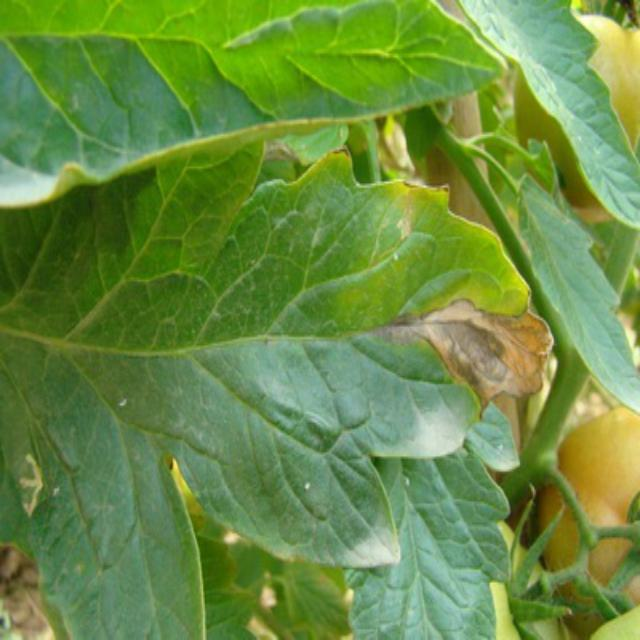Early_blight: (358, 287, 554, 421), (257, 131, 299, 164)
